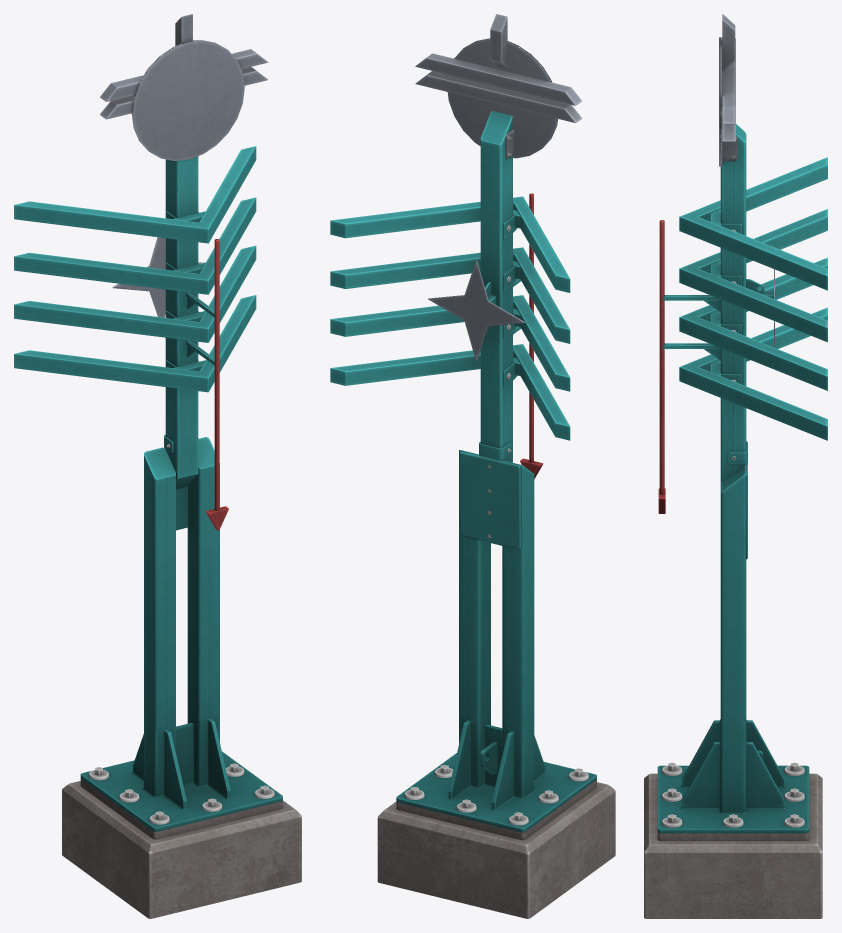
Rendered from Moon.glb.
3 views of the same model, side by side, from view 1: azimuth 30°, elevation 25°; view 2: azimuth 150°, elevation 25°; view 3: azimuth 270°, elevation 25° (orthographic).
Parts seen in each view (by area): view 1: Moon; view 2: Moon; view 3: Moon.
Boxes of the visible parts, x1,y1,x2,y2 form: Moon: (14, 14, 301, 918); Moon: (330, 14, 615, 918); Moon: (644, 14, 827, 918).
Size of the model in its own units: 1.68 by 5.7 by 1.1.
1 material, 1 textured.
